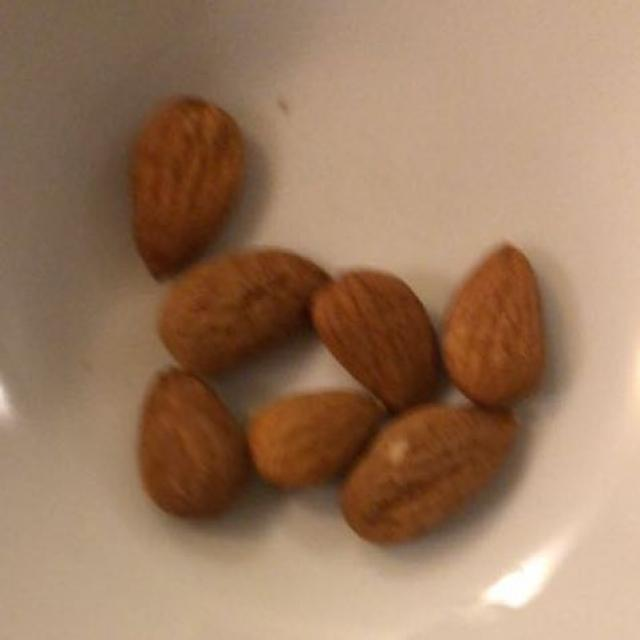almonds: (121, 113, 539, 540)
